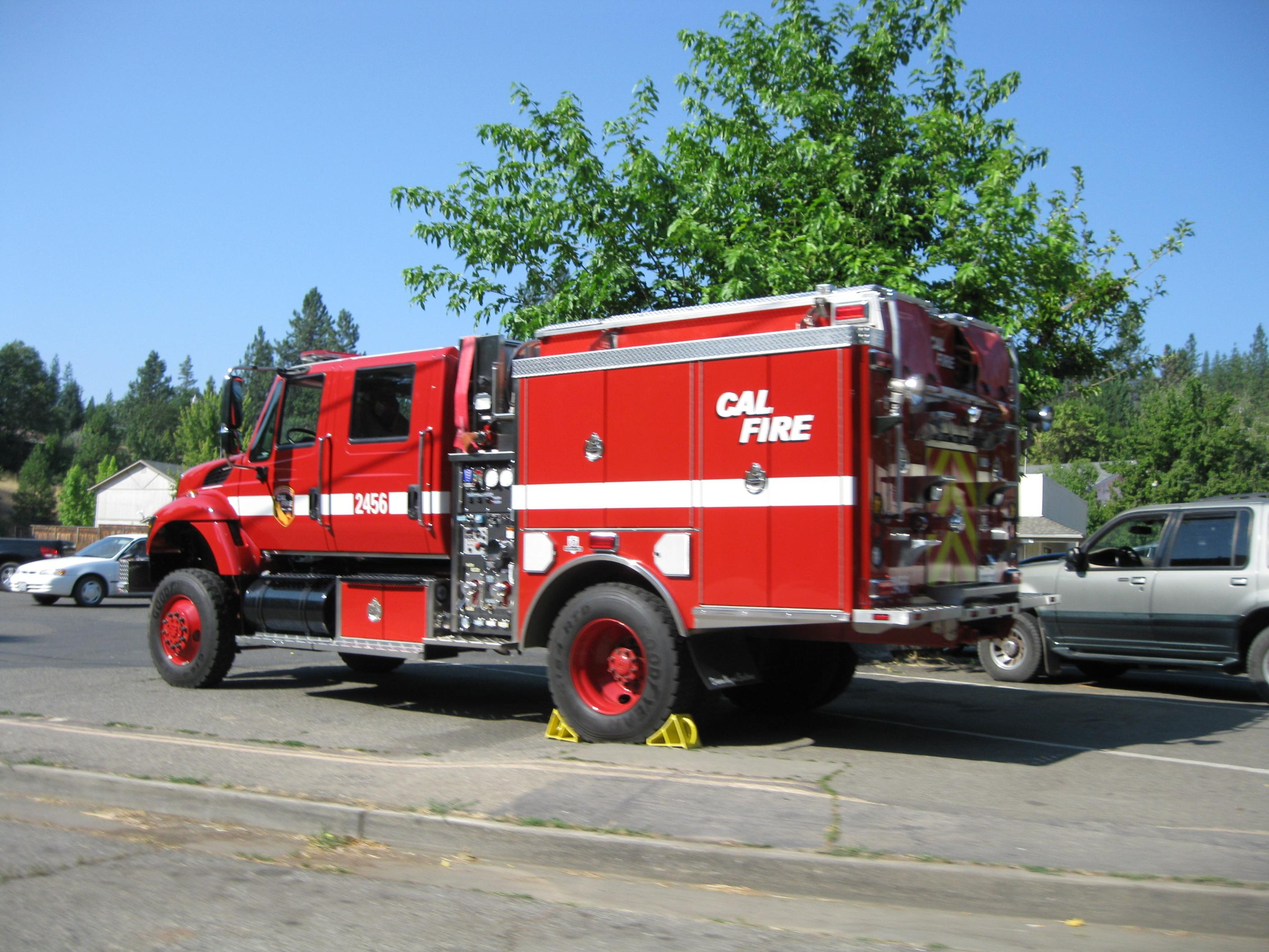Fire-engine: (143, 282, 1052, 745)
